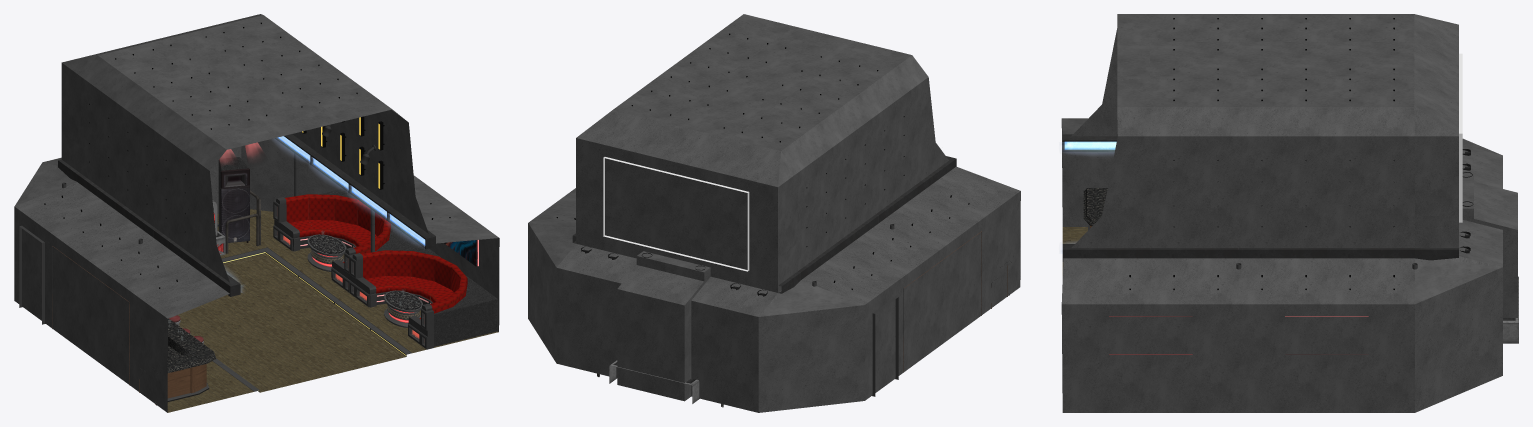
File: club.glb
3 renders of one model, left to right at view 1: azimuth 30°, elevation 25°; view 2: azimuth 150°, elevation 25°; view 3: azimuth 270°, elevation 25°, orthographic. The views are drawn at different scales.
Visible parts, largest first — view 1: Walls2, DanceFloor, Floor1, Curved_Bench_8, Curved_Bench_9, Curved_Bench_4, Large_Speaker1, Bar_Corner, Curved_Bench_5, DacneFloorTrim, Table1, Table (+10 smaller); view 2: Walls2, BigScreen, Door, TrimLightGlow, TrimLightGlow2, TrimLightGlow3, TrimLightGlow1, DJ_Stand; view 3: Walls2, TrimLightGlow, TrimLightGlow4, TrimLightGlow5, TrimLightGlow6, TrimLightGlow7, Bar_Corner, BigScreen, WallTrimEnd1, DJ_Stand.
Boxes of the visible parts, box(x1,y1,x2,y2) form: Walls2: box(14, 14, 499, 412); DanceFloor: box(177, 253, 405, 392); Floor1: box(167, 209, 498, 412); Curved_Bench_8: box(350, 244, 456, 307); Curved_Bench_9: box(273, 188, 370, 251); Curved_Bench_4: box(408, 265, 497, 349); Large_Speaker1: box(218, 157, 249, 242); Bar_Corner: box(139, 336, 215, 404); Curved_Bench_5: box(331, 212, 418, 292); DacneFloorTrim: box(212, 247, 411, 392); Table1: box(307, 234, 346, 271); Table: box(384, 290, 422, 327); Walls2: box(528, 14, 1020, 412); BigScreen: box(603, 157, 749, 271); Door: box(872, 296, 898, 396); TrimLightGlow: box(914, 156, 956, 194); TrimLightGlow2: box(837, 214, 878, 251); TrimLightGlow3: box(798, 243, 839, 279); TrimLightGlow1: box(876, 186, 917, 222); DJ_Stand: box(609, 360, 699, 403); Walls2: box(1061, 14, 1517, 412); TrimLightGlow: box(1061, 134, 1117, 155); TrimLightGlow4: box(1061, 241, 1150, 261); TrimLightGlow5: box(1150, 248, 1238, 258); TrimLightGlow6: box(1238, 248, 1326, 258); TrimLightGlow7: box(1327, 248, 1414, 258); Bar_Corner: box(1083, 188, 1107, 226); BigScreen: box(1459, 53, 1462, 222); WallTrimEnd1: box(1415, 248, 1458, 260); DJ_Stand: box(1503, 276, 1518, 343).
Bounding box in the file's own units: 9.27 × 6.13 × 9.78.
18 materials, 16 textured.
